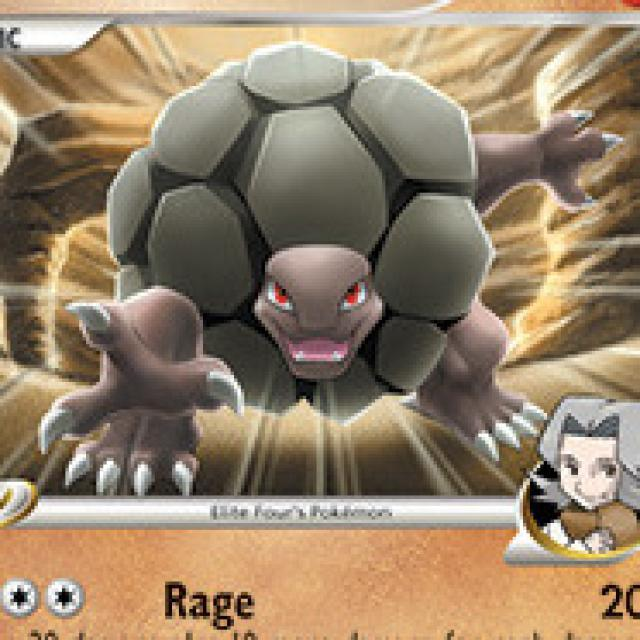Golem: (80, 47, 552, 448)
